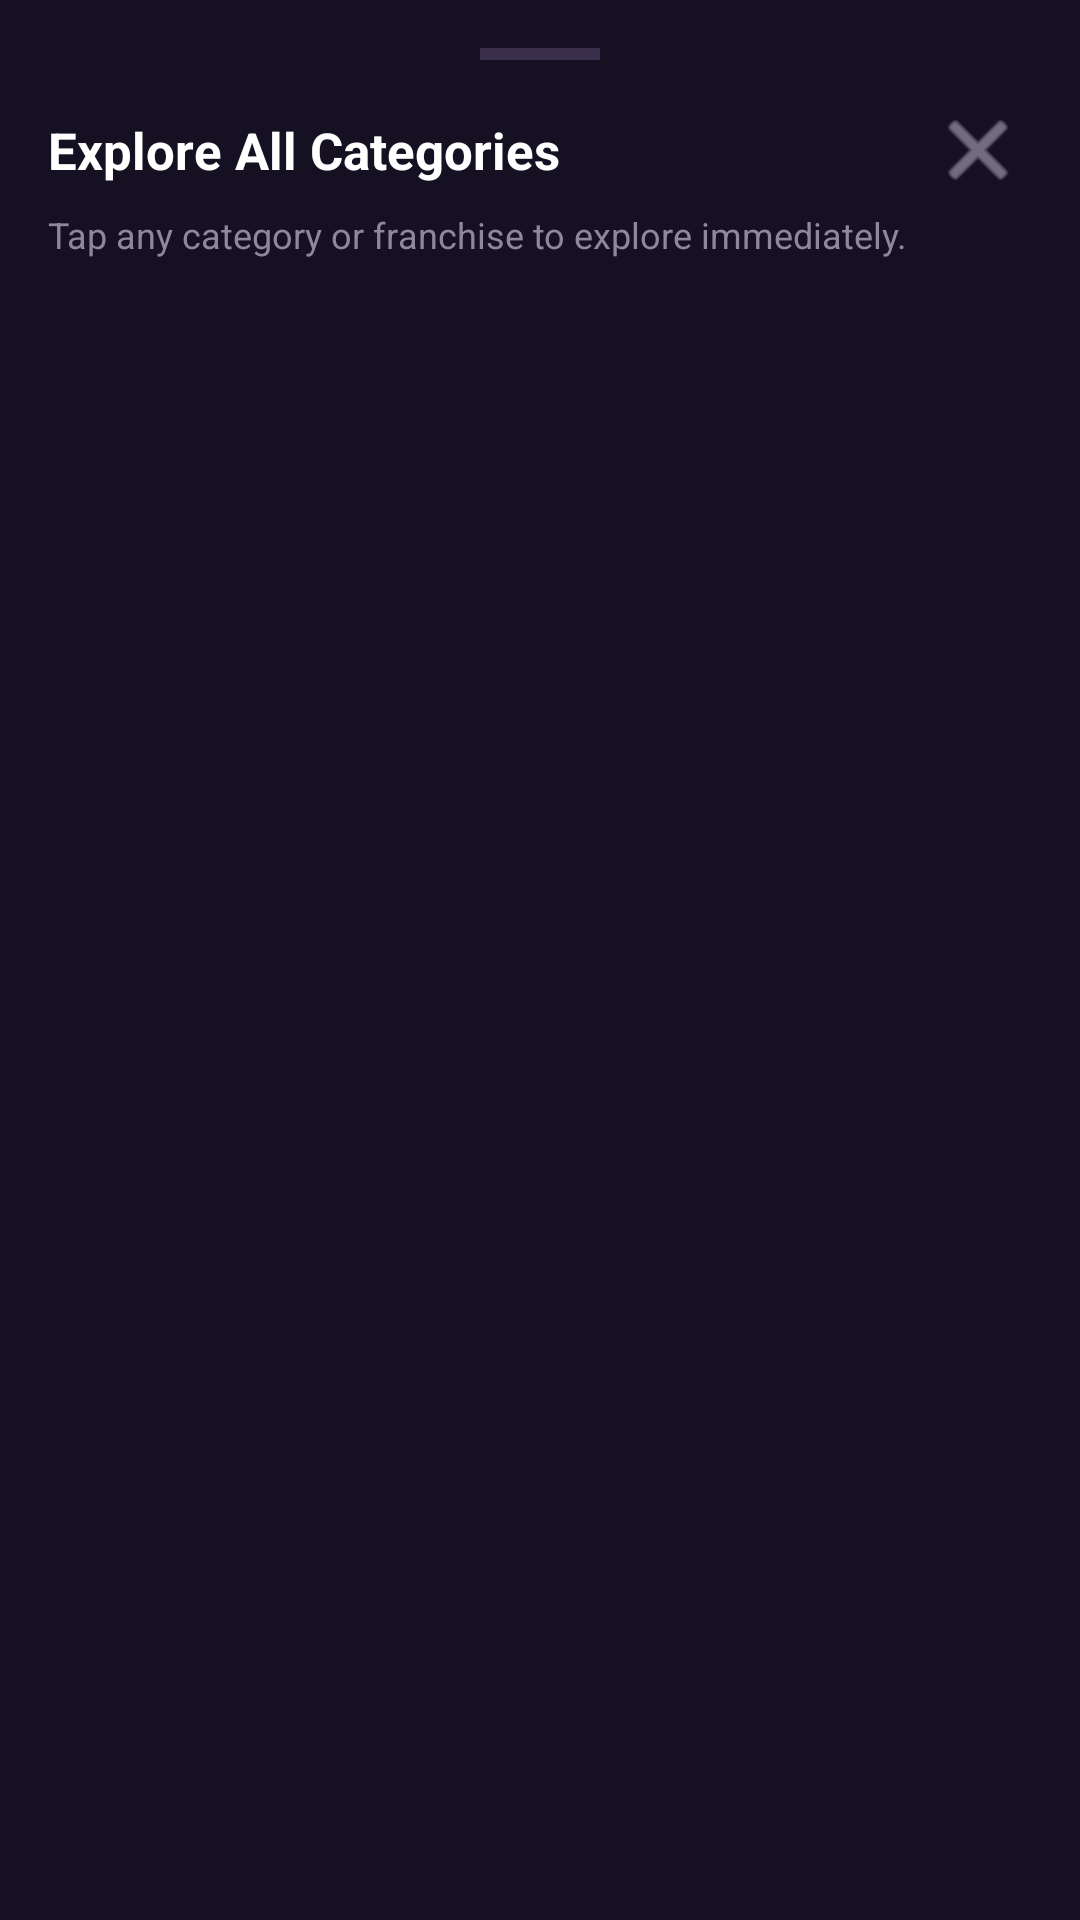

Screen size 1080×1920. Icon name, then its center in pixels as (x,y):
close clear cancel: (978,150)
